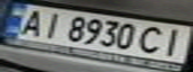0: (115, 20, 139, 52)
3: (100, 18, 121, 48)
8: (63, 12, 87, 44)
9: (81, 16, 103, 47)
A: (12, 7, 48, 37)
C: (136, 24, 172, 55)
I: (154, 26, 193, 56), (36, 10, 69, 39)
